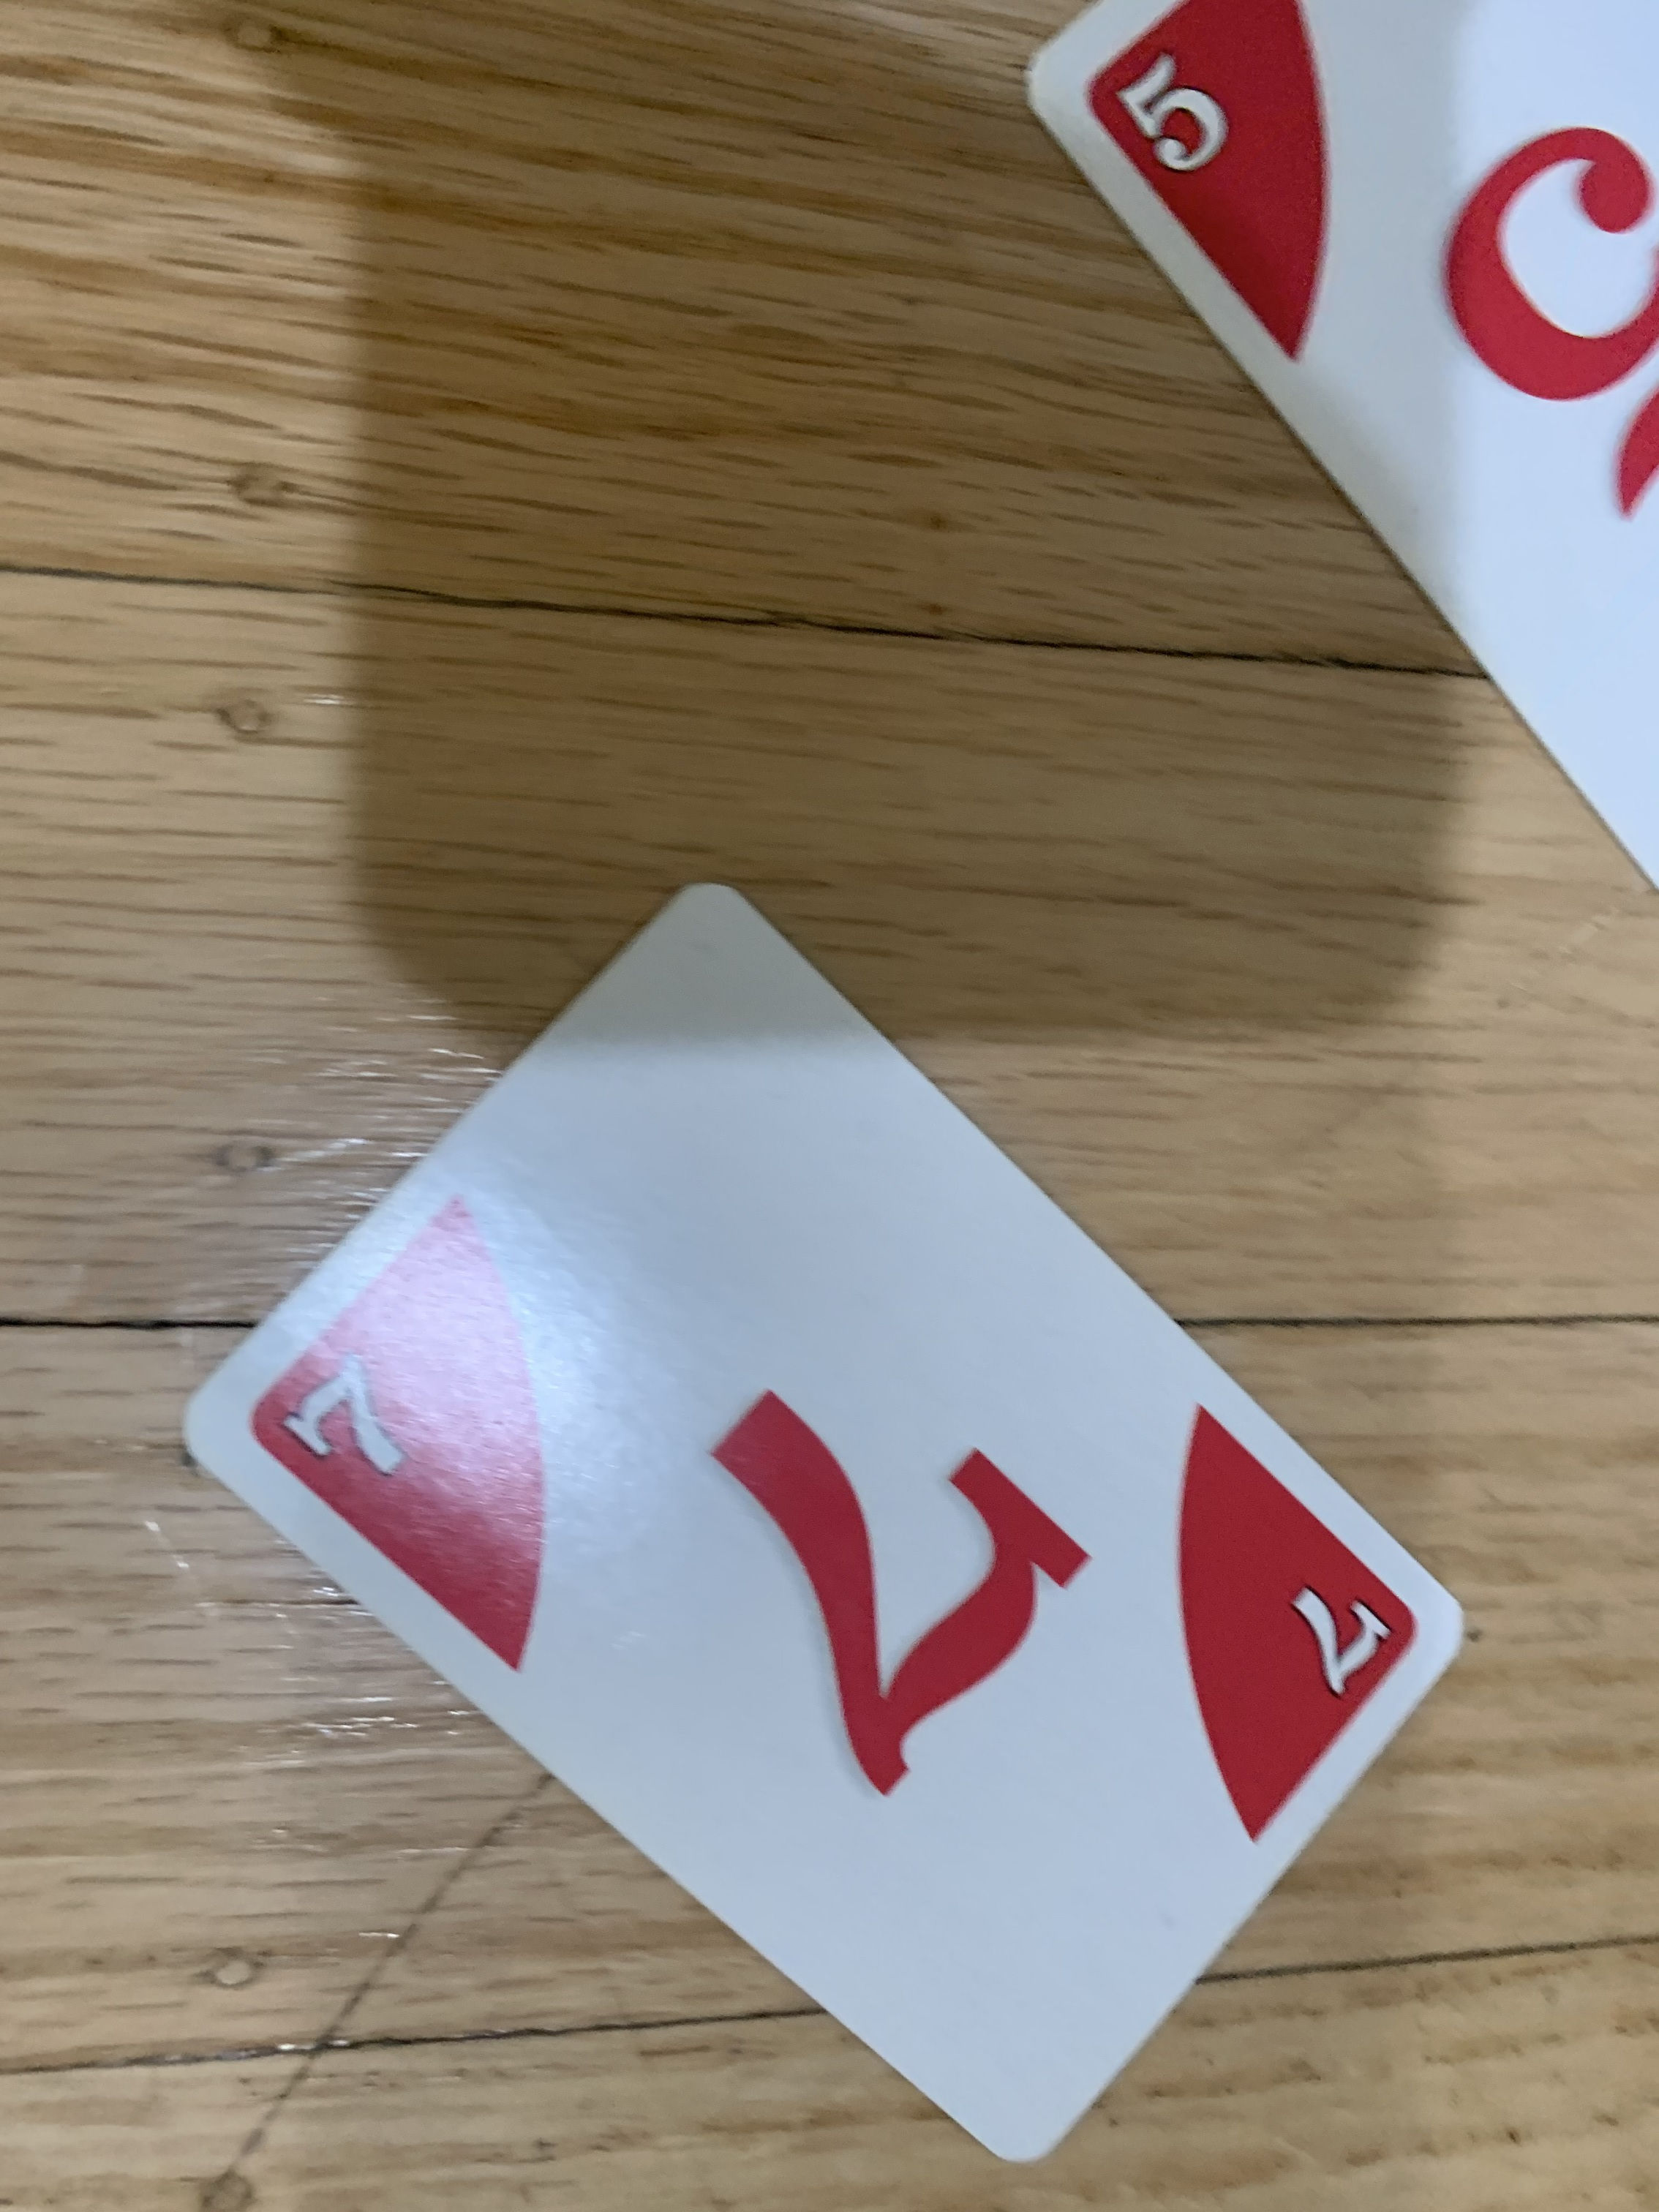seven: (164, 864, 1474, 2163)
